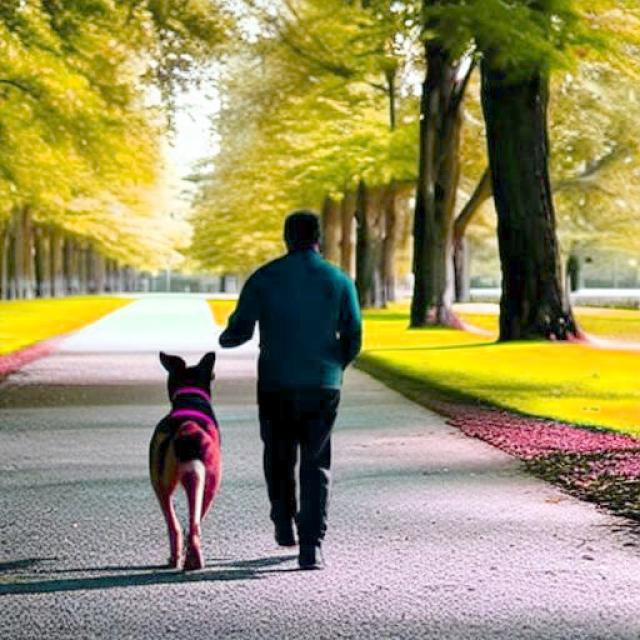Unleashed_Dog: (147, 351, 340, 568)
